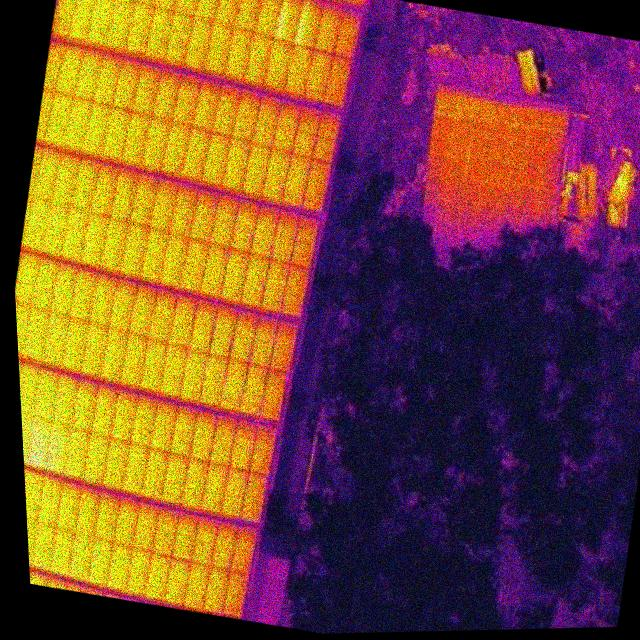Diode: (288, 0, 331, 54), (267, 0, 309, 46)
